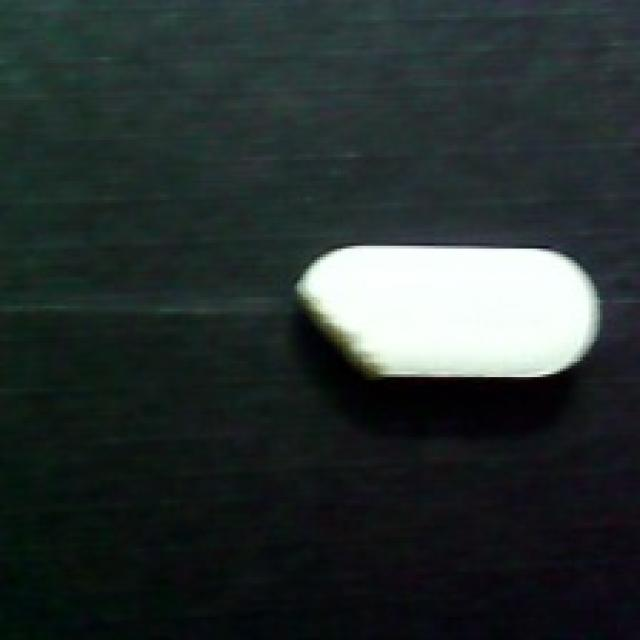defected: (286, 234, 611, 391)
